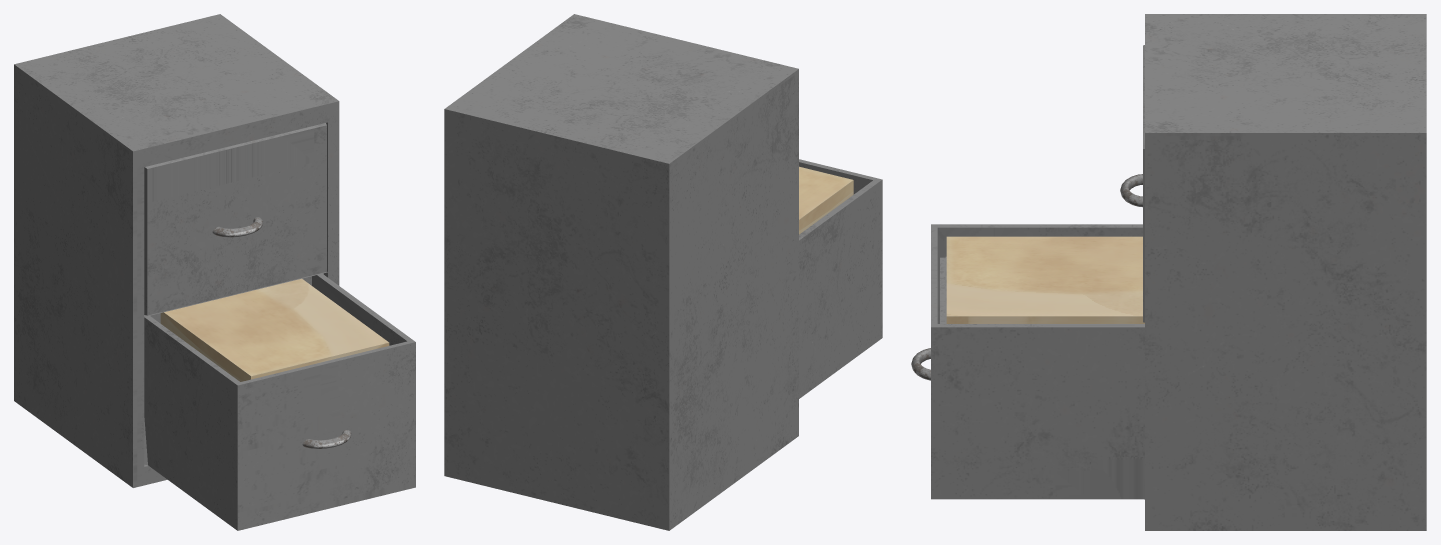
The model's file is Table with opened drawers.fbx.
3 views of the same model, side by side, from view 1: azimuth 30°, elevation 25°; view 2: azimuth 150°, elevation 25°; view 3: azimuth 270°, elevation 25° (orthographic). The views are drawn at different scales.
Visible parts, largest first — view 1: Table_with_opened_drawers, Files, Handle1; view 2: Table_with_opened_drawers, Files; view 3: Table_with_opened_drawers, Files.
Part boxes in pixels (bbox=[...]): Table_with_opened_drawers: bbox=[14, 14, 415, 530]; Files: bbox=[160, 278, 389, 381]; Handle1: bbox=[212, 217, 262, 237]; Table_with_opened_drawers: bbox=[444, 14, 882, 530]; Files: bbox=[799, 166, 853, 234]; Table_with_opened_drawers: bbox=[931, 14, 1426, 530]; Files: bbox=[946, 236, 1144, 323].
Size of the model in its own units: 1 by 1.56 by 1.83.
3 materials, 3 textured.
